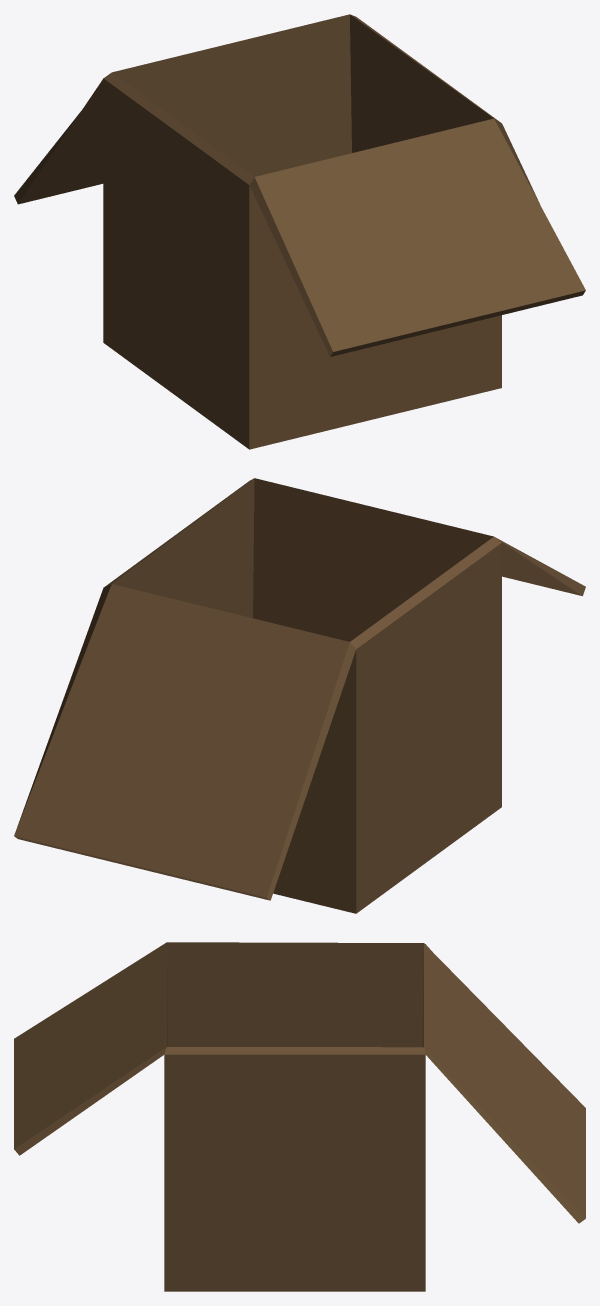
3 renders of one model, top to bottom at view 1: azimuth 30°, elevation 25°; view 2: azimuth 150°, elevation 25°; view 3: azimuth 270°, elevation 25°, orthographic. The views are drawn at different scales.
Visible parts, largest first — view 1: Cube.005; view 2: Cube.005; view 3: Cube.005.
Part boxes in pixels (x1,y1,x2,y2): Cube.005: (14,14,585,449); Cube.005: (14,478,585,913); Cube.005: (14,942,585,1291).
Bounding box in the file's own units: 200 × 204 × 438.
